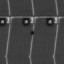dust: (29, 30, 35, 35)
